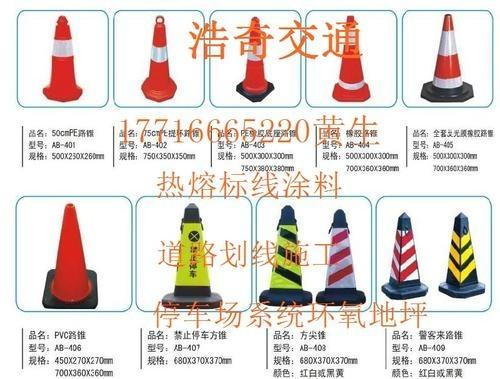cone_barrel: (43, 201, 95, 306), (165, 200, 216, 304), (260, 202, 307, 307), (321, 209, 363, 307), (422, 14, 469, 100), (437, 211, 485, 295), (382, 212, 427, 298), (40, 16, 85, 101), (328, 20, 372, 102), (235, 14, 273, 100), (140, 15, 177, 101)
